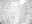person: (20, 1, 25, 6)
